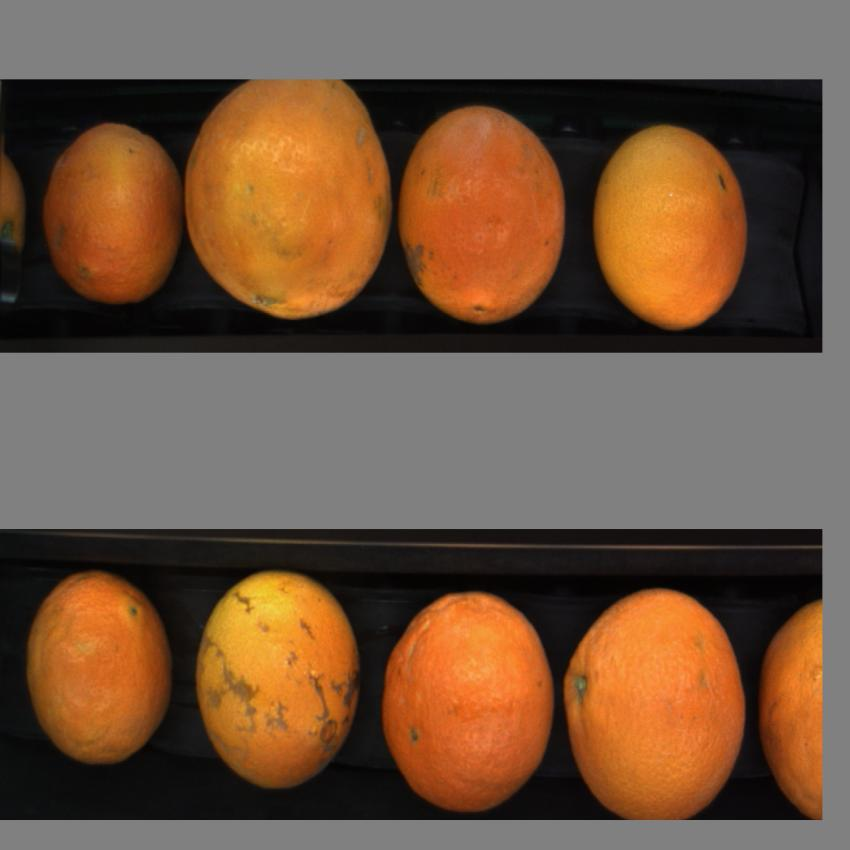Buen estado: (182, 82, 396, 320), (561, 591, 752, 817), (380, 587, 555, 810), (196, 571, 362, 796), (587, 118, 755, 335), (21, 564, 176, 772), (39, 108, 184, 310), (760, 596, 822, 814)
Mal estado: (398, 108, 572, 324)
